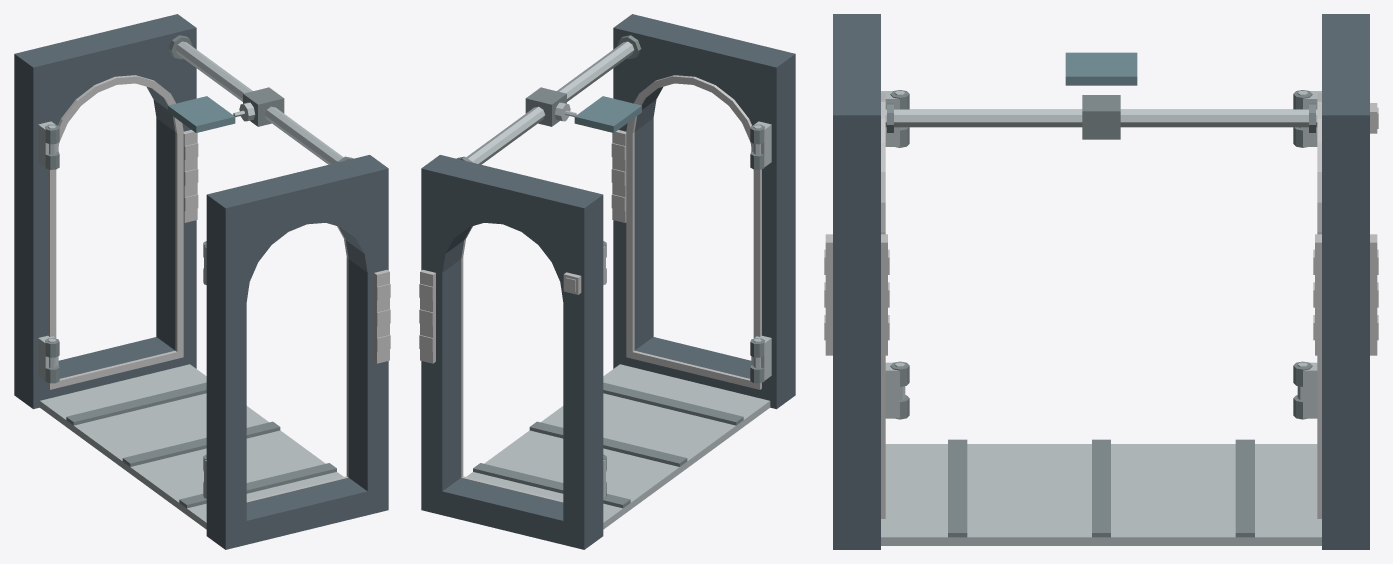
File: body.obj
3 renders of one model, left to right at view 1: azimuth 30°, elevation 25°; view 2: azimuth 150°, elevation 25°; view 3: azimuth 270°, elevation 25°, orthographic. The views are drawn at different scales.
Size of the model in its own units: 1 by 2 by 2.31.
